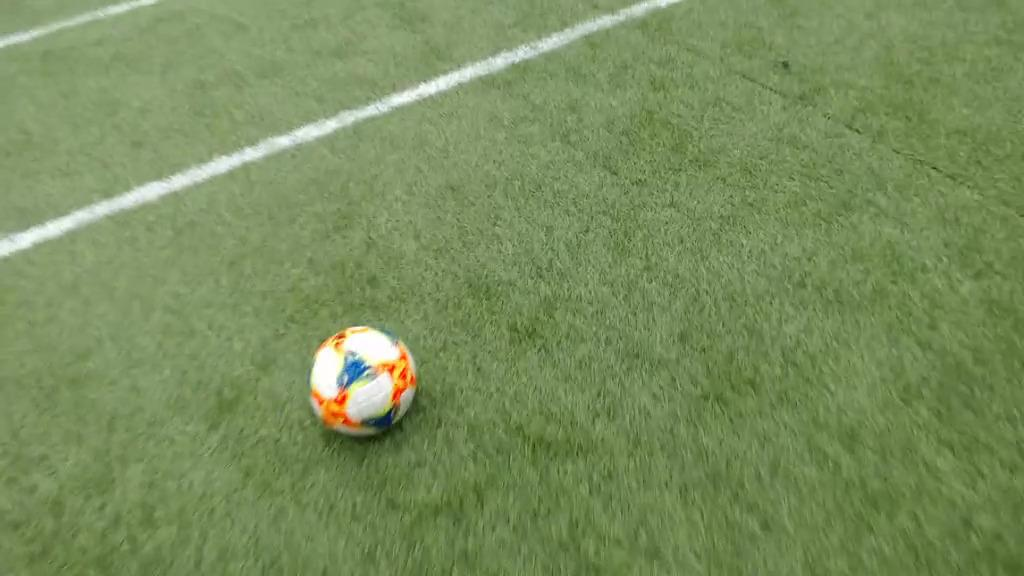ball: (302, 309, 430, 443)
